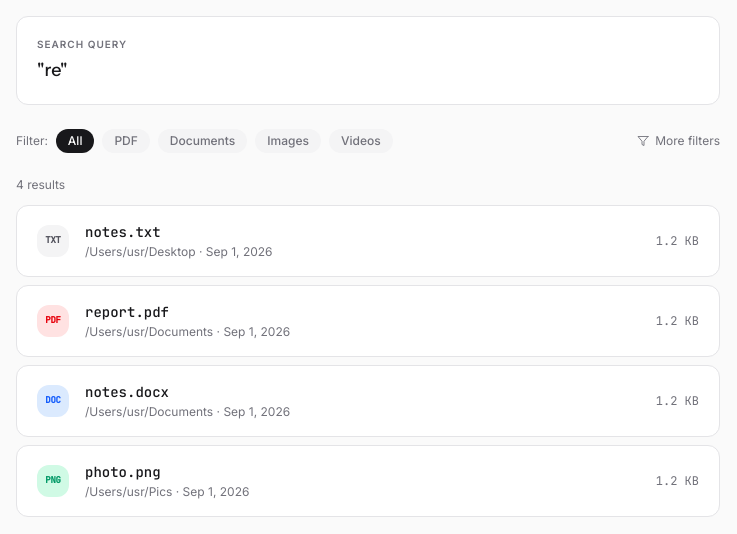
Test: Search › applies the PDF quick filter to non-folder results
Check: the text "4 results" is shown, box top-left (16, 177), bottom-right (65, 192)
Click the button "PDF": (126, 141) top-left (102, 129), bottom-right (150, 153)
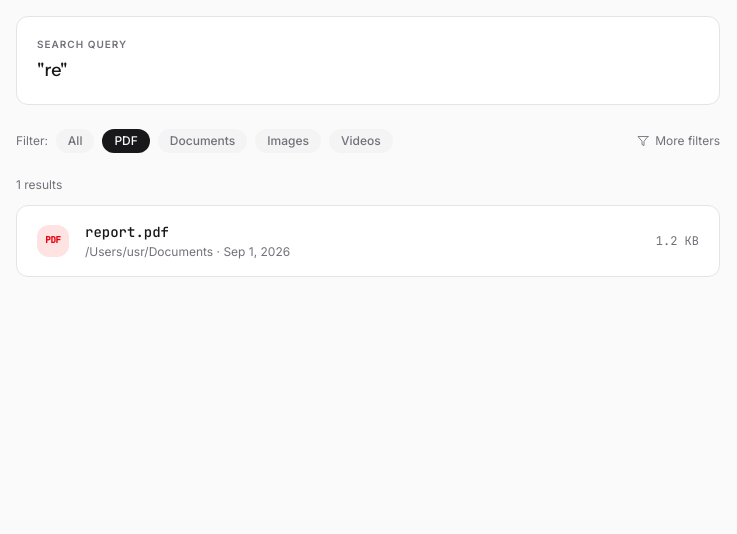
Check: the button "notes.docx" is gone
Check: the button "notes.txt" is gone
Check: the button "photo.png" is gone
